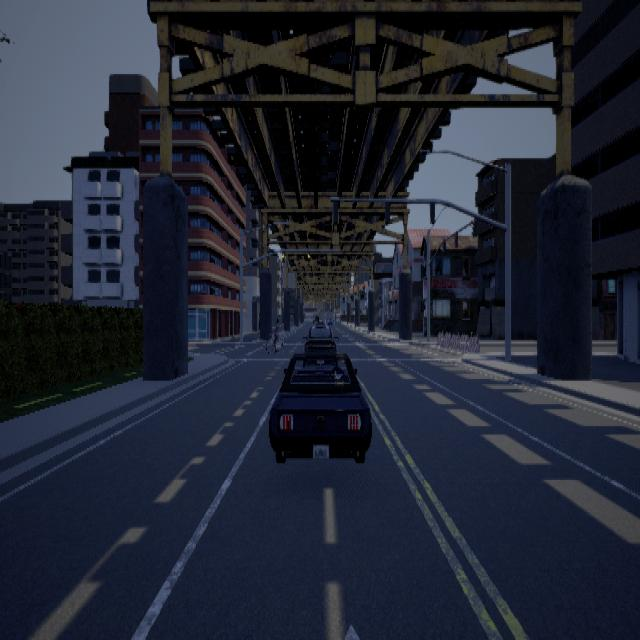bike: (264, 316, 287, 354)
red_light: (442, 238, 447, 252), (455, 229, 459, 246)
vehicle: (270, 314, 373, 462)
yellow_light: (282, 250, 286, 262), (308, 250, 310, 262)
